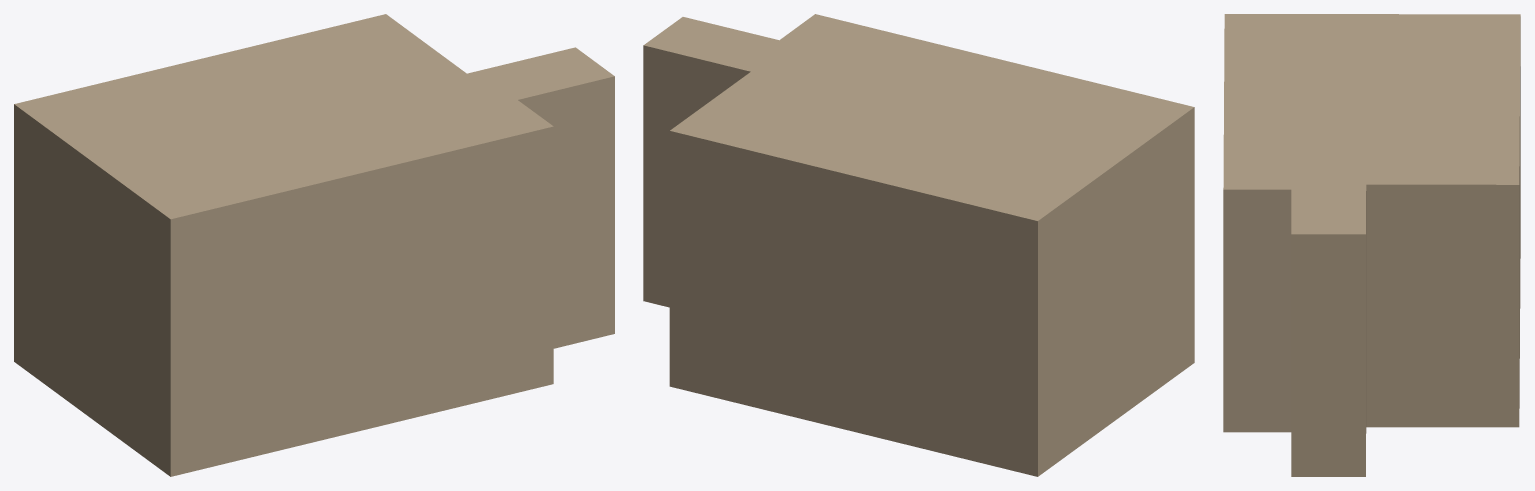
The model's file is bld_99531921.dae.
3 renders of one model, left to right at view 1: azimuth 30°, elevation 25°; view 2: azimuth 150°, elevation 25°; view 3: azimuth 270°, elevation 25°, orthographic. The views are drawn at different scales.
Parts seen in each view (by area): view 1: bld_99531921; view 2: bld_99531921; view 3: bld_99531921.
Boxes of the visible parts, left/top/right/bottom form: bld_99531921: left=14, top=14, right=614, bottom=476; bld_99531921: left=643, top=14, right=1194, bottom=476; bld_99531921: left=1223, top=14, right=1520, bottom=476.
Size of the model in its own units: 15.6 by 8.88 by 8.
